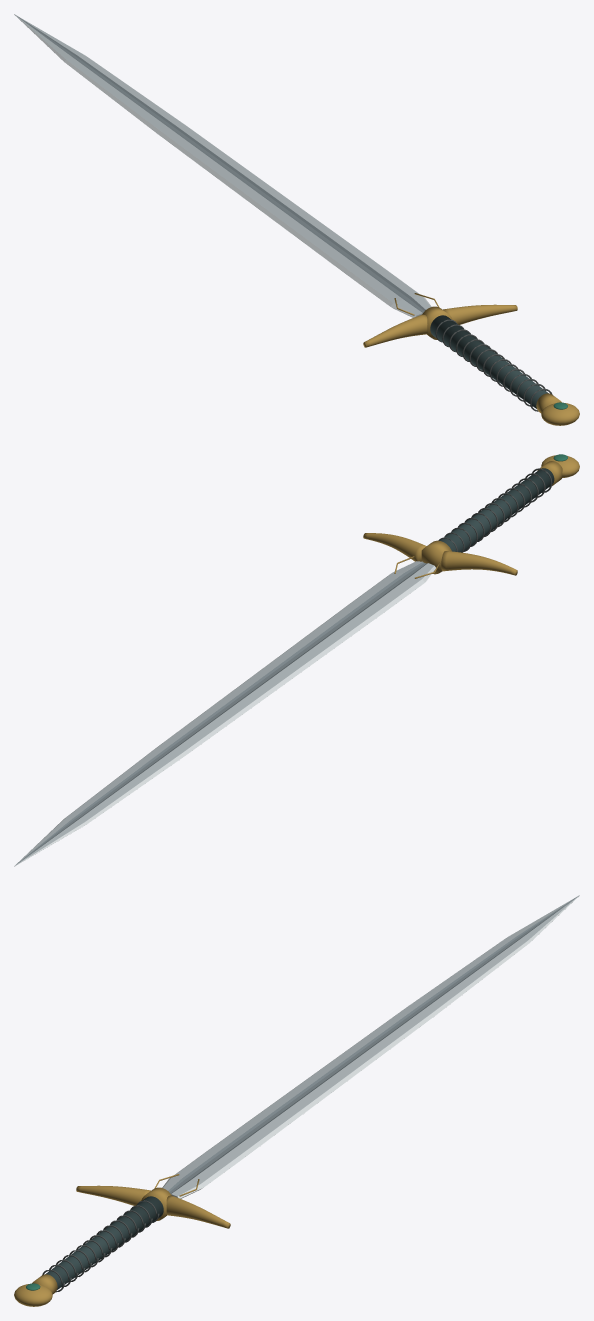
Rendered from glass.glb.
The picture shows the model from 3 angles, top to bottom: view 1: azimuth 30°, elevation 25°; view 2: azimuth 150°, elevation 25°; view 3: azimuth 330°, elevation 25°; orthographic projection.
Visible parts, largest first — view 1: Forged_glass; view 2: Forged_glass; view 3: Forged_glass.
Part boxes in pixels (x1,y1,x2,y2): Forged_glass: [14, 14, 579, 425]; Forged_glass: [14, 454, 579, 866]; Forged_glass: [14, 895, 579, 1306].
Bounding box in the file's own units: 0.3201 × 0.054 × 2.03.
